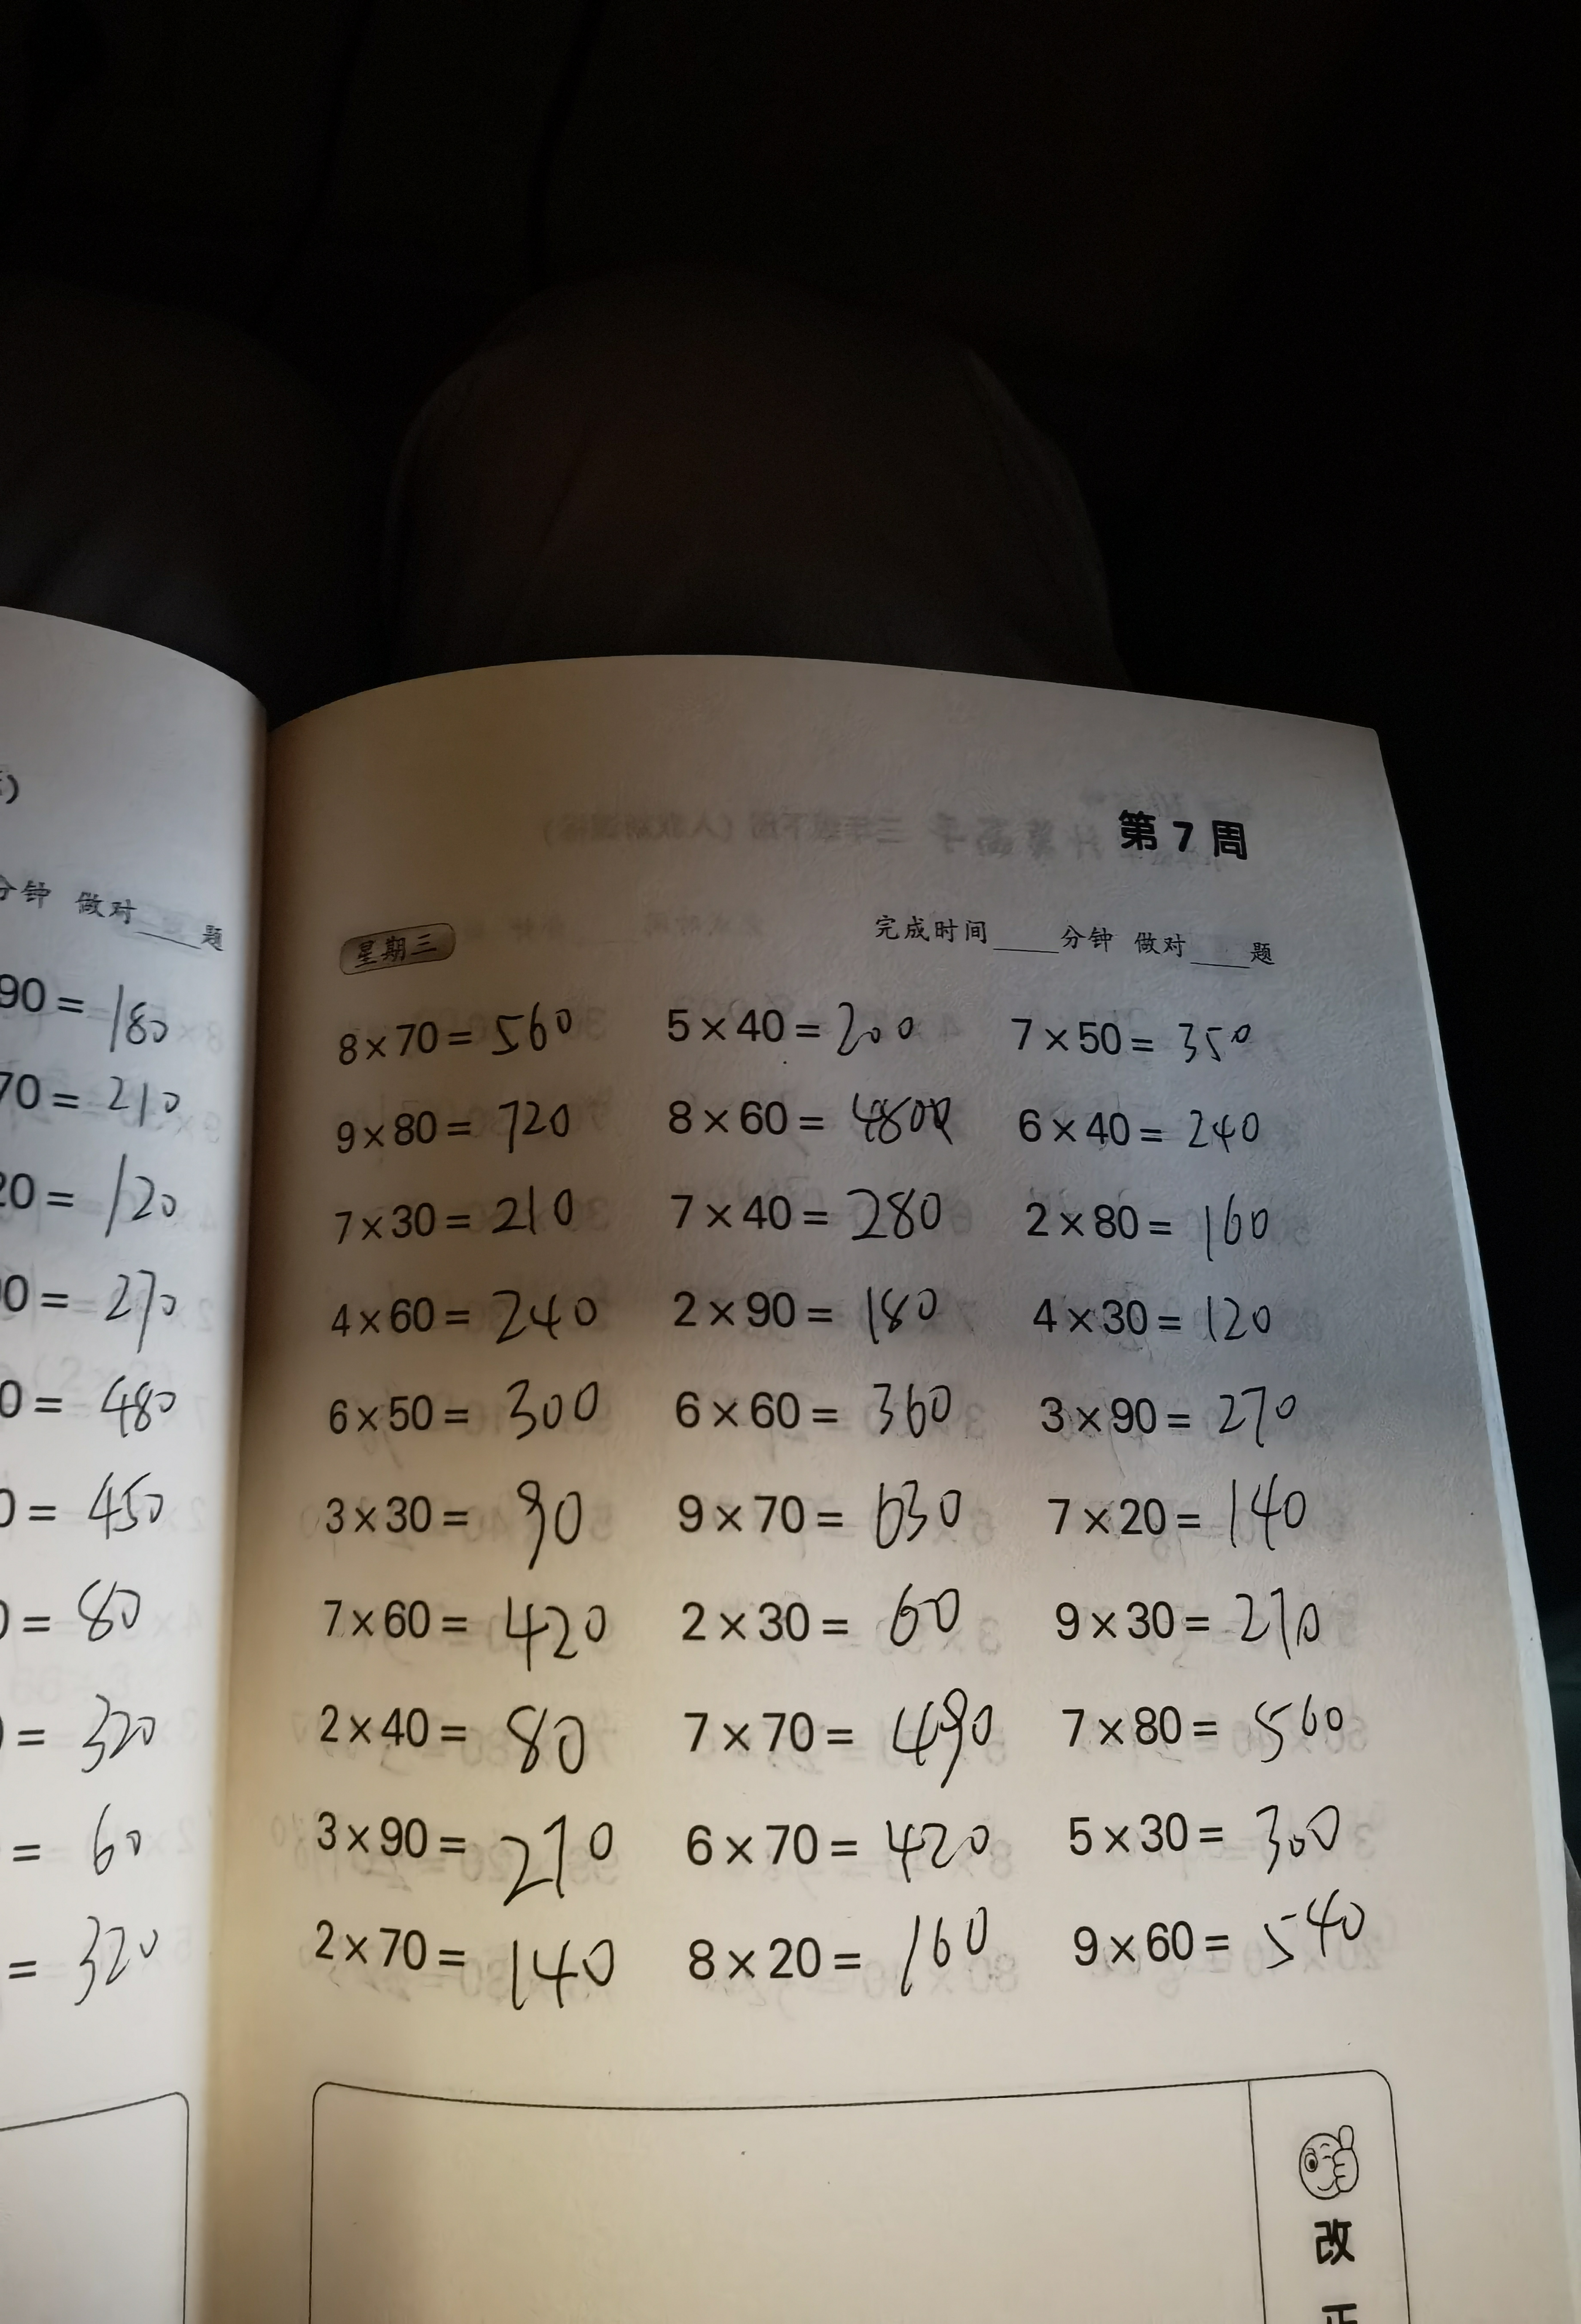equation: (265, 1911, 676, 2049), (685, 1892, 1038, 2008), (295, 1567, 623, 1683), (672, 1691, 1011, 1802), (272, 1803, 626, 1904), (646, 965, 935, 1078), (266, 1466, 646, 1549), (1023, 1357, 1336, 1458), (997, 967, 1272, 1080), (1030, 1572, 1355, 1668), (683, 1560, 993, 1659), (1050, 1680, 1380, 1770), (300, 1382, 642, 1468), (658, 1800, 1022, 1878), (284, 1694, 591, 1786), (335, 1265, 633, 1359), (1066, 1895, 1387, 1982), (1062, 1789, 1394, 1872), (651, 1366, 979, 1447), (1016, 1458, 1313, 1544), (658, 1166, 956, 1249), (1022, 1181, 1304, 1267), (674, 1475, 970, 1555), (648, 1080, 932, 1156), (1009, 1092, 1285, 1170), (319, 1087, 607, 1161), (1027, 1279, 1302, 1355), (658, 1276, 951, 1339), (321, 1186, 596, 1253), (323, 995, 589, 1062)
